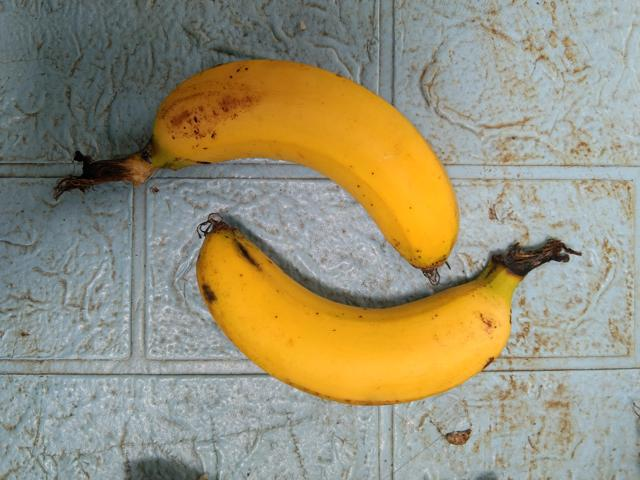freshripe: (186, 203, 526, 431), (149, 41, 454, 290)
